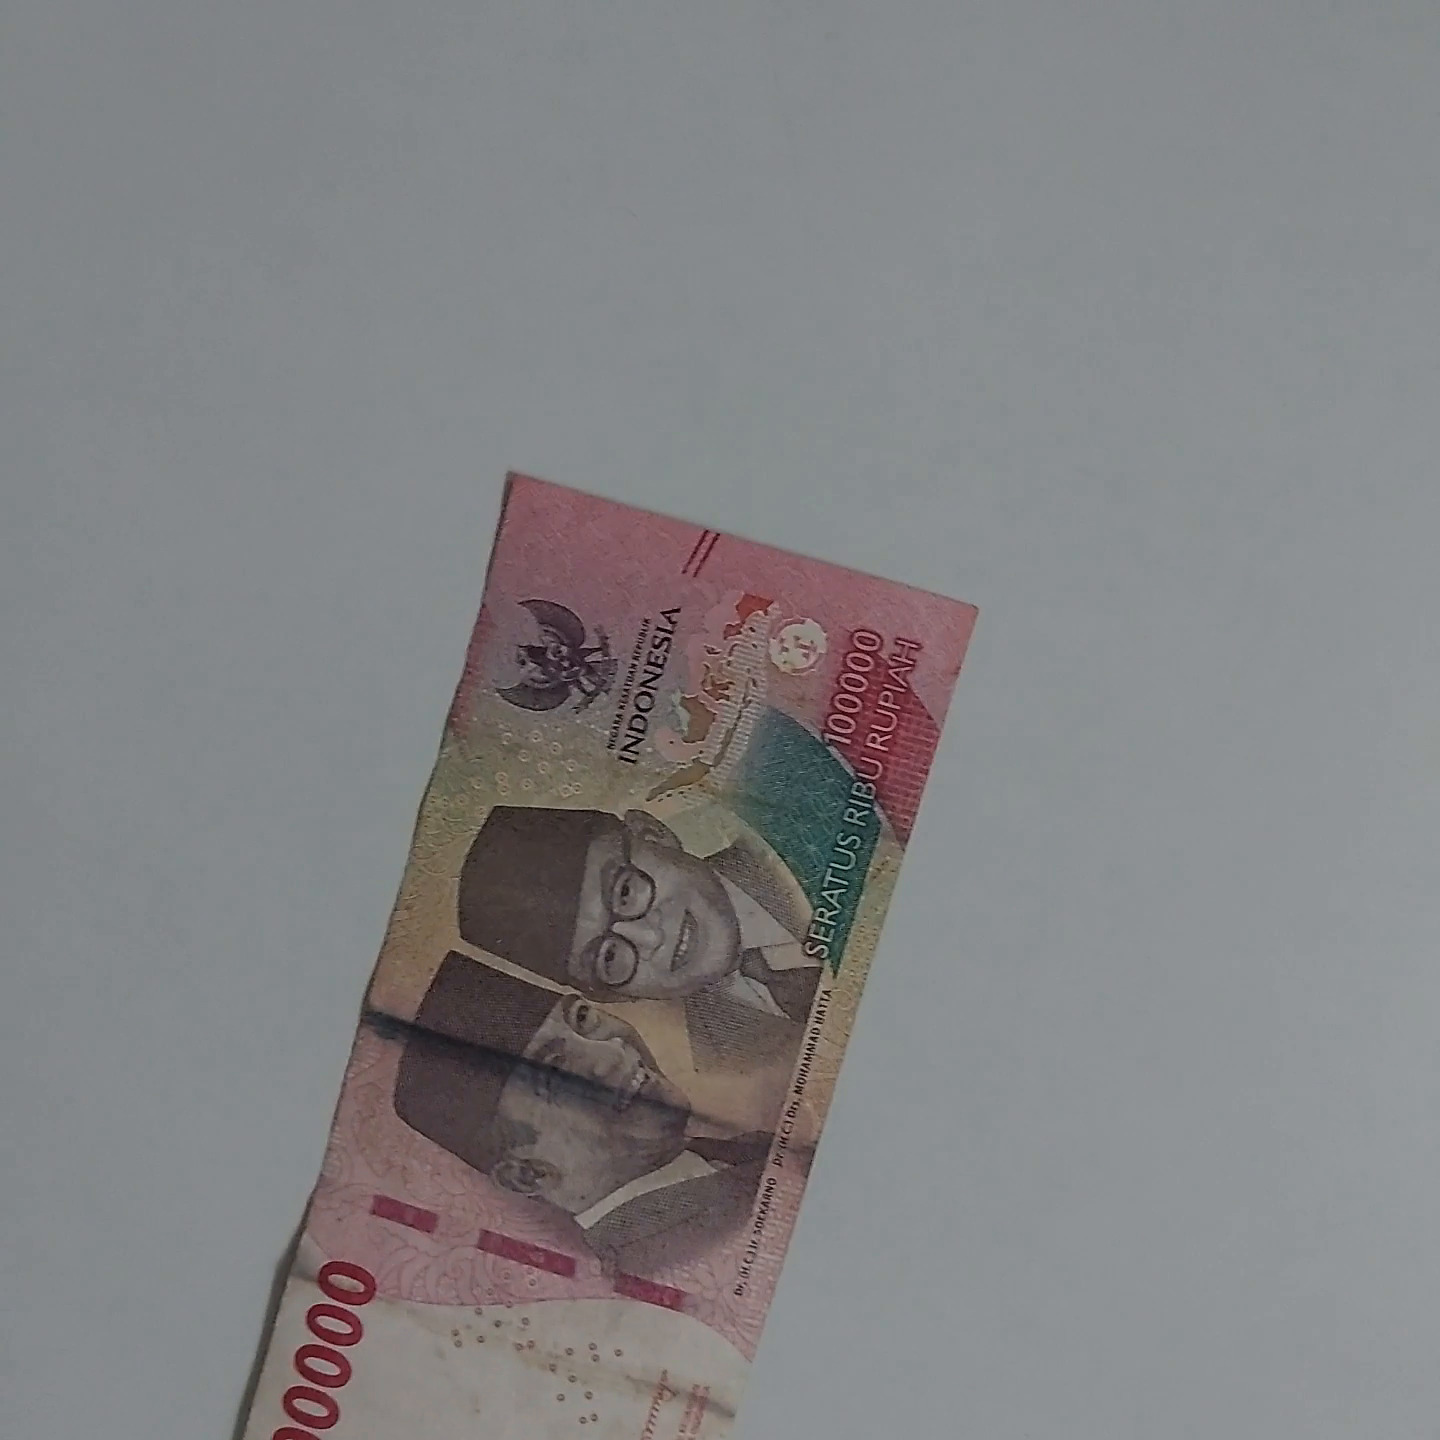100k: (198, 427, 984, 1440)
